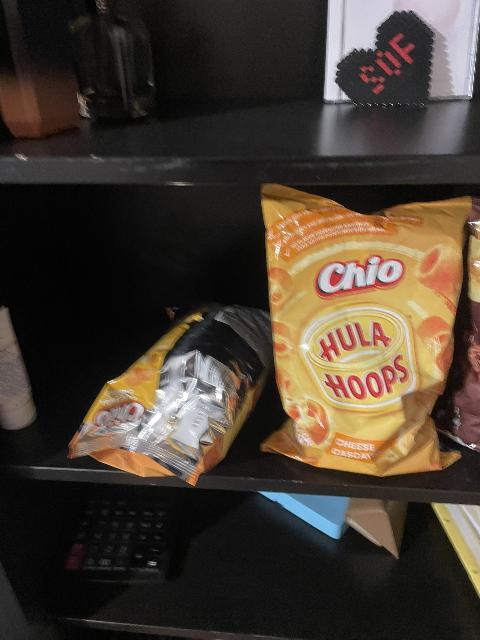Chio Cascaval 125g: (67, 302, 276, 482)
Chio Hula Hoops Cheese 70g: (255, 180, 471, 475)
Lays Beef Grilled Ribs 125g: (448, 222, 480, 454)
